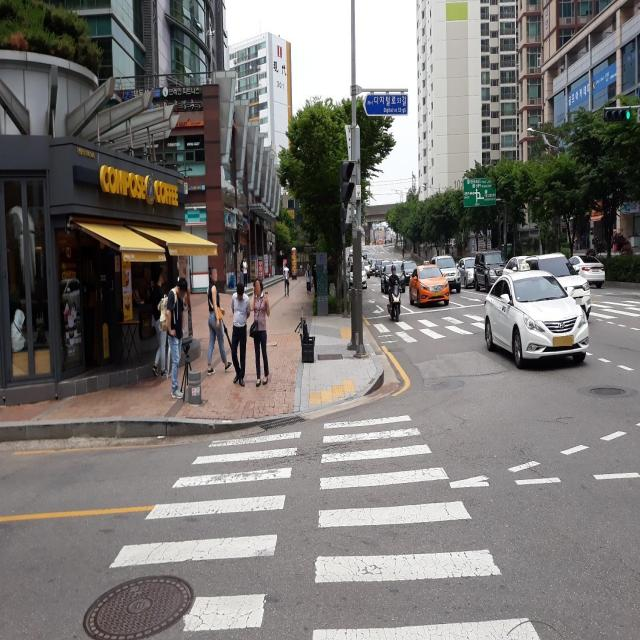횡단보도: (109, 413, 542, 639), (375, 297, 640, 350)
